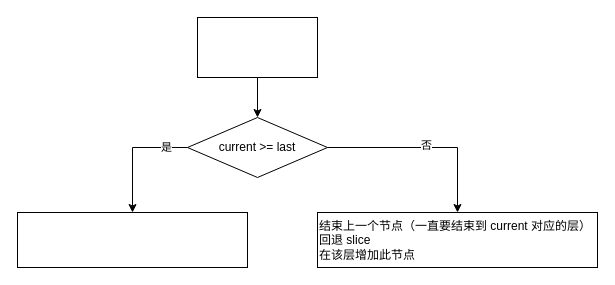
Image size: 615x285. Some labels were removed from this diagram. Each missing label, with the centre of its shape:
"current last" goes at (257,47).
"向 map中该层增加该节点； 如果是大于，需要向 slice 中追加 indent" goes at (132,240).
